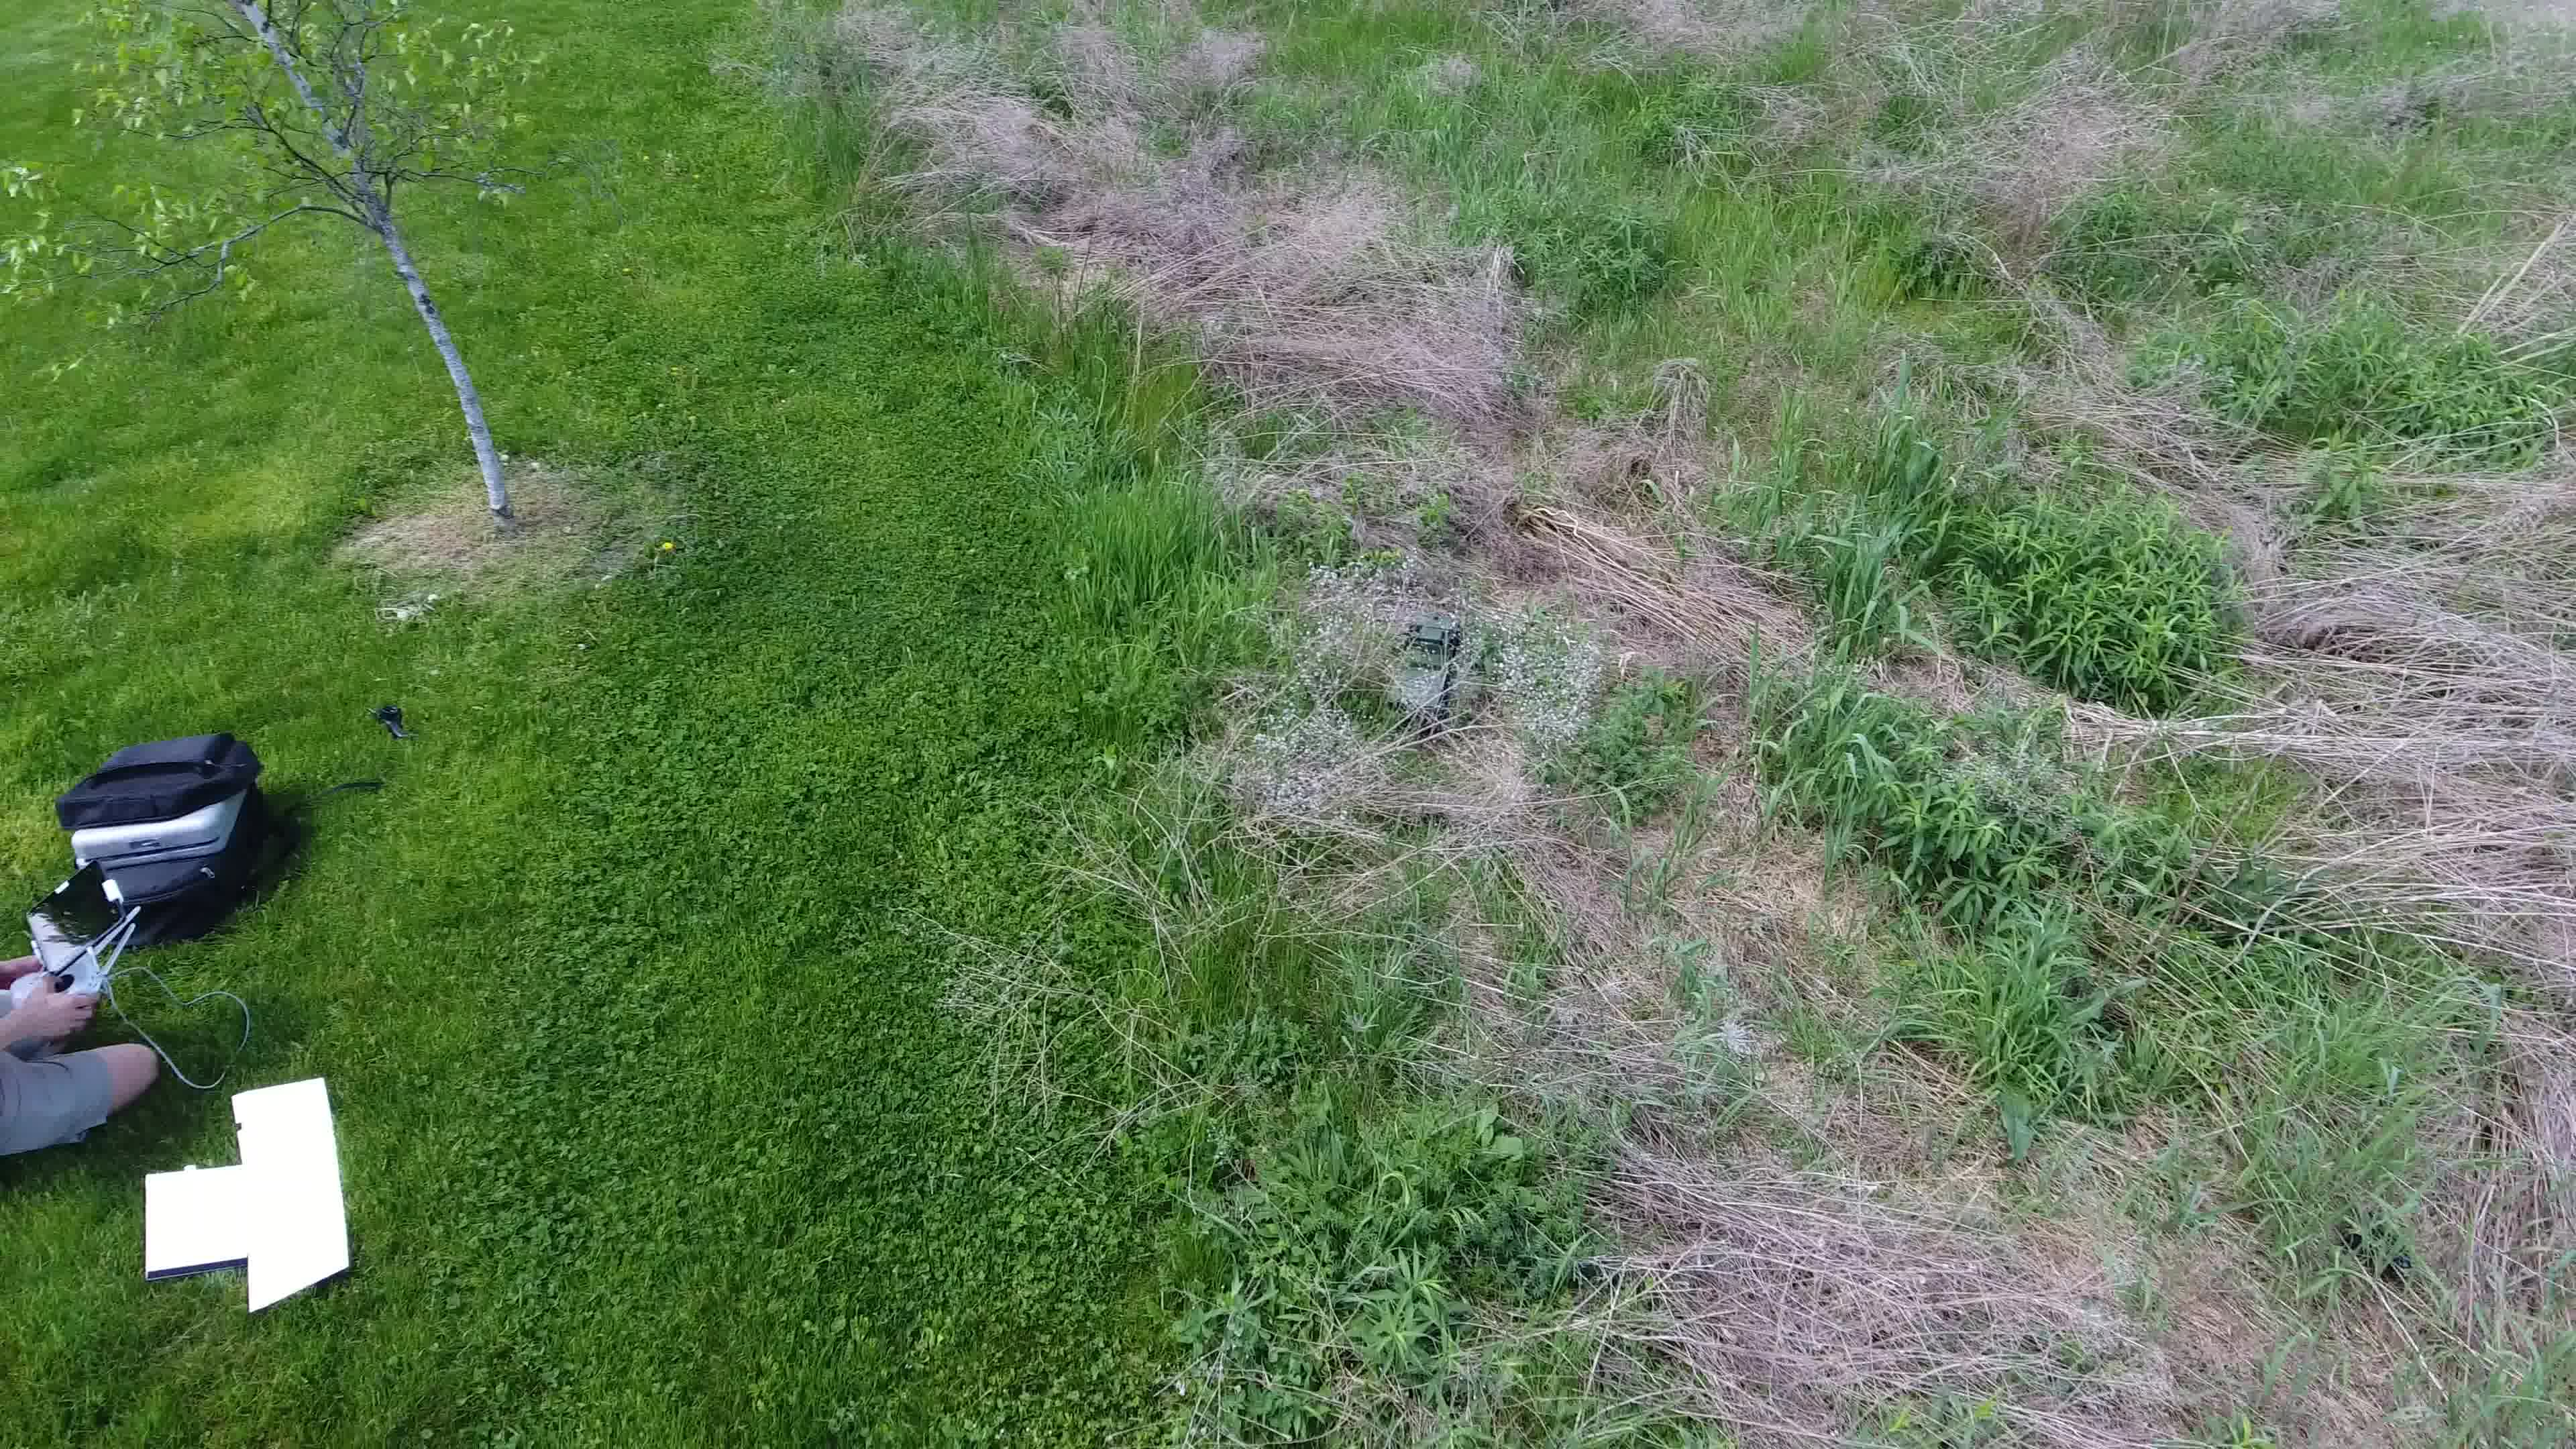transporter9: (1373, 614, 1467, 738)
